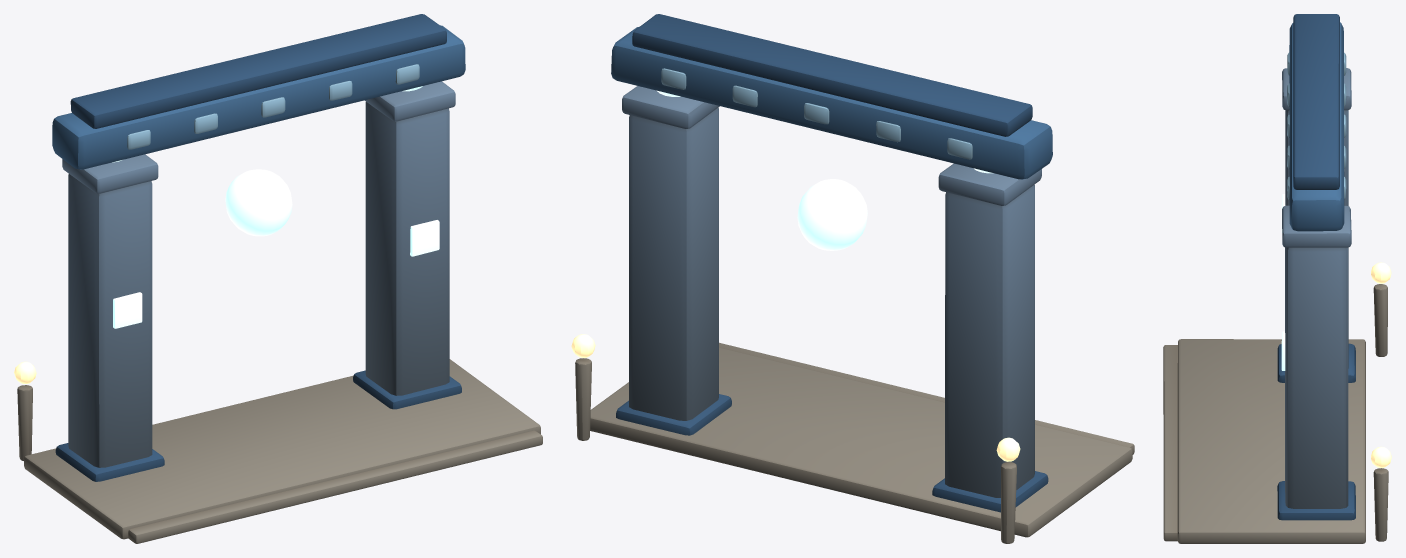
3 views of the same model, side by side, from view 1: azimuth 30°, elevation 25°; view 2: azimuth 150°, elevation 25°; view 3: azimuth 270°, elevation 25° (orthographic). The views are drawn at different scales.
Parts seen in each view (by area): view 1: gate_54958542; view 2: gate_54958542; view 3: gate_54958542.
Boxes of the visible parts, x1,y1,x2,y2 form: gate_54958542: (14, 14, 542, 543); gate_54958542: (571, 14, 1134, 543); gate_54958542: (1163, 14, 1391, 543).
Size of the model in its own units: 5.13 by 4.36 by 2.54.
